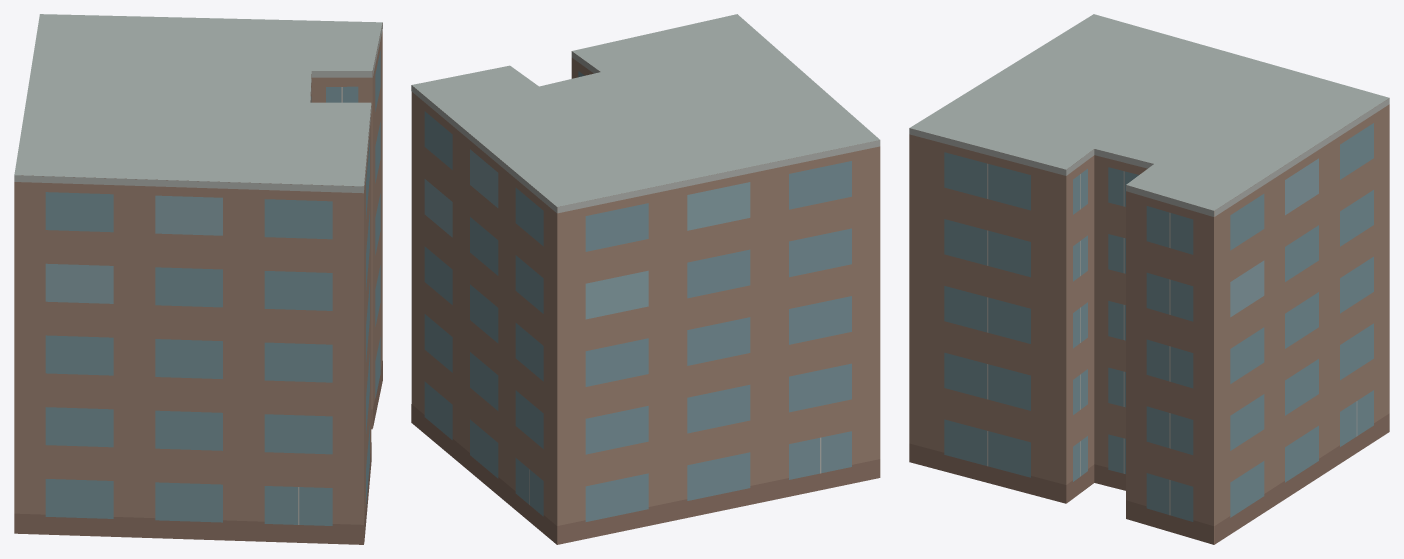
Rendered from survey-upis-32909650.glb.
The picture shows the model from 3 angles, left to right: view 1: azimuth 30°, elevation 25°; view 2: azimuth 150°, elevation 25°; view 3: azimuth 270°, elevation 25°; orthographic projection. The views are drawn at different scales.
Parts seen in each view (by area): view 1: survey-upis-32909650.tmp; view 2: survey-upis-32909650.tmp; view 3: survey-upis-32909650.tmp.
Part boxes in pixels (<box>): survey-upis-32909650.tmp: <box>14,14,382,544</box>; survey-upis-32909650.tmp: <box>411,14,880,544</box>; survey-upis-32909650.tmp: <box>909,14,1389,544</box>.
Size of the model in its own units: 16.31 by 12.9 by 16.82.
